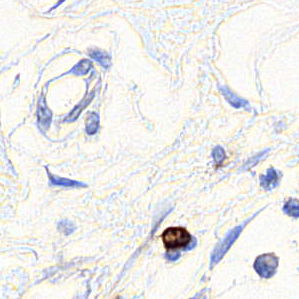Lymphocyte: (161, 225, 192, 250)
